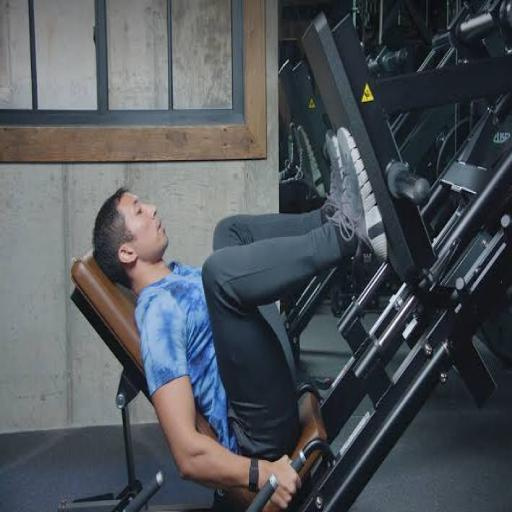Leg Press: (84, 15, 490, 498)
